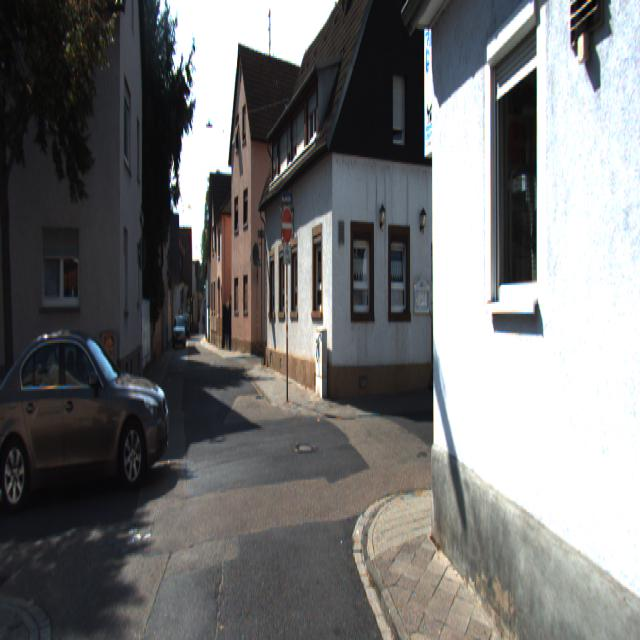Car: (0, 324, 173, 510)
